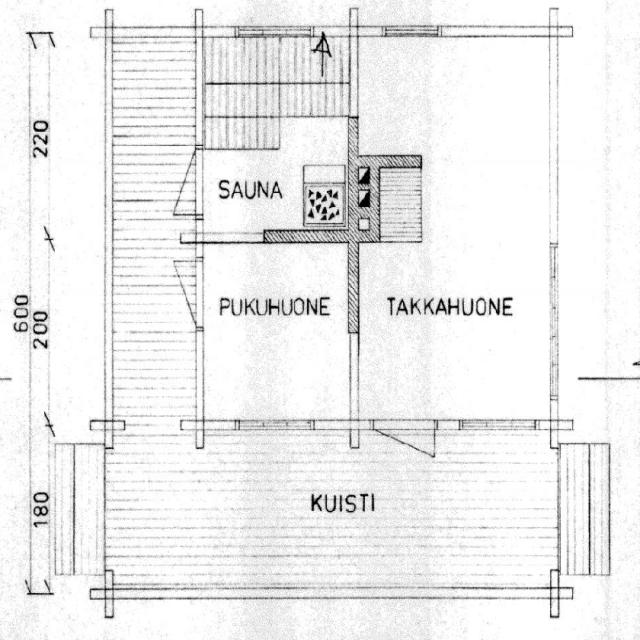door: (374, 420, 434, 505), (142, 260, 203, 326), (142, 150, 203, 214)
